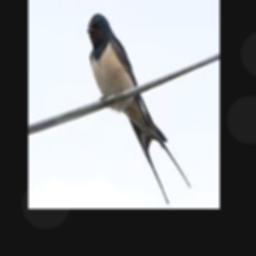Swallow: (86, 13, 190, 203)
